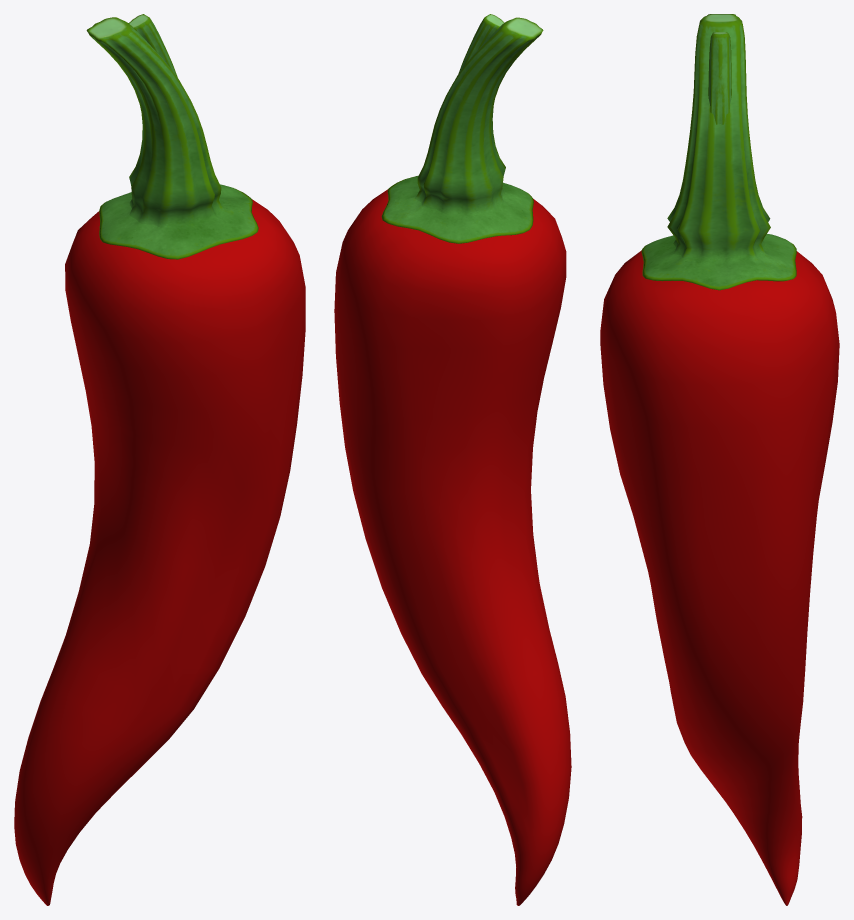
The model's file is chilli.gltf.
The picture shows the model from 3 angles, left to right: view 1: azimuth 30°, elevation 25°; view 2: azimuth 150°, elevation 25°; view 3: azimuth 270°, elevation 25°; orthographic projection. The views are drawn at different scales.
Visible parts, largest first — view 1: bell, tip_fat, tip_standard; view 2: bell, tip_fat, tip_standard; view 3: bell, tip_fat, tip_standard.
Part boxes in pixels (<box>): bell: <box>14,199,305,905</box>; tip_fat: <box>86,17,223,228</box>; tip_standard: <box>99,14,258,259</box>; bell: <box>334,189,571,905</box>; tip_fat: <box>415,17,543,215</box>; tip_standard: <box>381,14,533,243</box>; bell: <box>600,250,839,905</box>; tip_fat: <box>667,14,770,260</box>; tip_standard: <box>641,32,796,290</box>.
Size of the model in its own units: 5.85 by 20.43 by 4.9.
2 materials, 1 textured.
